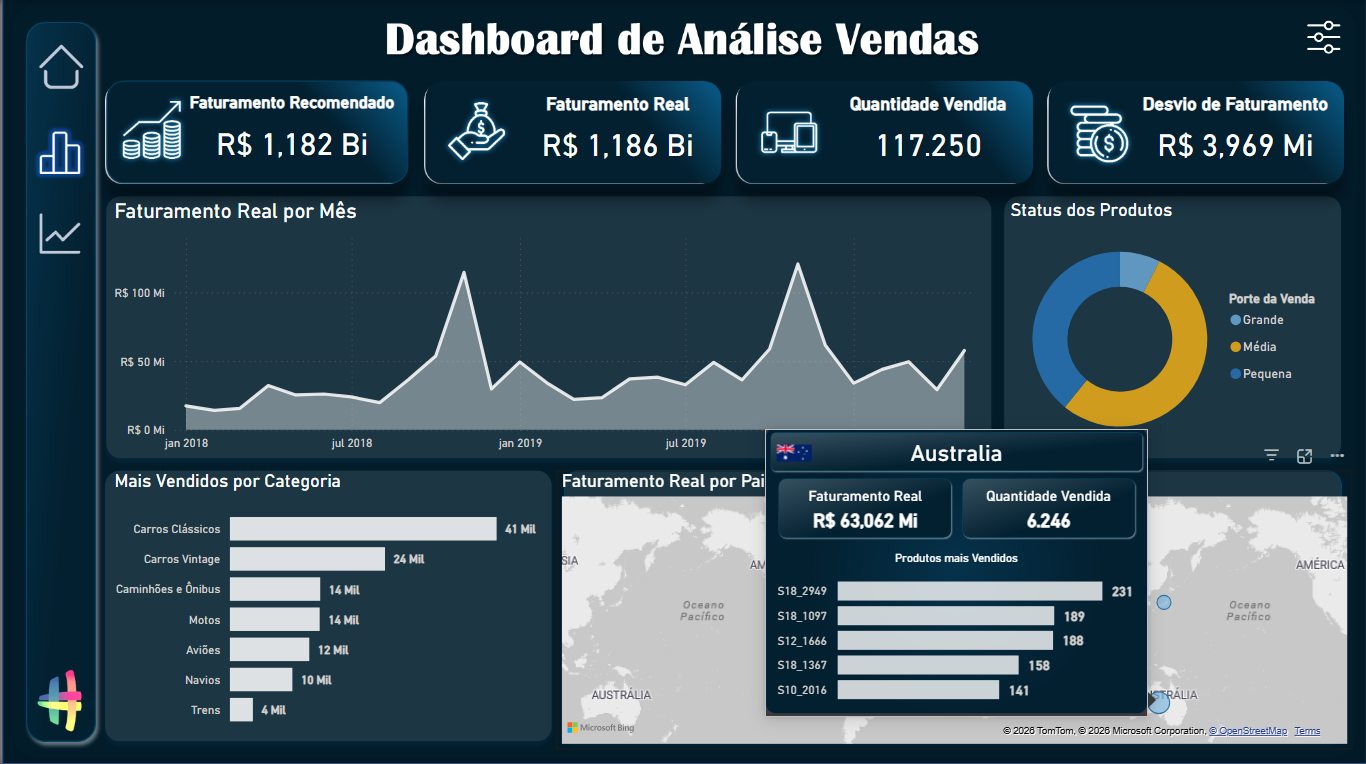

The page's visual inventory and layout, read from the dashboard file:
{"tool":"powerbi","page":{"name":"Inicial","canvas":[1280,720],"ordinal":1},"visuals":[{"type":"card","title":"Faturamento Recomendado","fields":{"Values":["Medidas.Faturamento Total Previsto"]},"box":[168.9,89.5,207,73.8],"z":0},{"type":"card","title":"Faturamento Real","fields":{"Values":["Medidas.Faturamento Total Real"]},"box":[474.6,89.5,203.9,73.6],"z":1000},{"type":"card","title":"Quantidade Vendida","fields":{"Values":["Medidas.Qtde Vendida"]},"box":[770.8,89.5,194.7,73.8],"z":2000},{"type":"card","title":"Desvio de Faturamento","fields":{"Values":["Medidas.Desvio de Preço"]},"box":[1056.3,89.2,199.7,73.6],"z":3000},{"type":"stackedAreaChart","title":"Faturamento Real por Mês","fields":{"Category":["dCalendario.Inicio do Mês"],"Y":["Medidas.Faturamento Total Real"]},"box":[100.4,188.5,827.7,243.2],"z":4000},{"type":"image","title":"Botão de Filtro","box":[1219.2,21.2,39,31.2],"z":5000},{"type":"clusteredBarChart","title":"Mais Vendidos por Categoria","fields":{"Y":["Medidas.Qtde Vendida"],"Category":["dProduto.Categoria"]},"box":[100.4,442.8,413.8,252.1],"z":6000},{"type":"map","title":"Faturamento Real por Pais","fields":{"Category":["dLocalidade.Pais"],"Size":["Medidas.Faturamento Total Real"]},"box":[519.8,442.8,746.2,261],"z":7000},{"type":"actionButton","title":"Botão Capa","box":[22.3,37.2,68.3,60.8],"z":8000},{"type":"donutChart","title":"Status dos Produtos","fields":{"Y":["Medidas.Qtde Vendida"],"Series":["fVendas.Porte da Venda1"]},"box":[940.3,188.5,317.9,243.2],"z":9000},{"type":"actionButton","box":[22.6,191.3,67.8,57.1],"z":11000},{"type":"actionButton","title":"Botão Capa","box":[21.1,187.5,68.3,60.8],"z":12000}]}

Visuals, with their boxes in screenshot pixels (x1, y1, x2, y2), scaled from the page's 1280x720 canvas onto the 1366x764 screenshot:
"Faturamento Recomendado" card: 180:95:401:173
"Faturamento Real" card: 506:95:724:173
"Quantidade Vendida" card: 823:95:1030:173
"Desvio de Faturamento" card: 1127:95:1340:173
"Faturamento Real por Mês" stackedAreaChart: 107:200:990:458
"Botão de Filtro" image: 1301:22:1343:56
"Mais Vendidos por Categoria" clusteredBarChart: 107:470:549:737
"Faturamento Real por Pais" map: 555:470:1351:747
"Botão Capa" actionButton: 24:39:97:104
"Status dos Produtos" donutChart: 1003:200:1343:458
actionButton: 24:203:96:264
"Botão Capa" actionButton: 23:199:95:263
